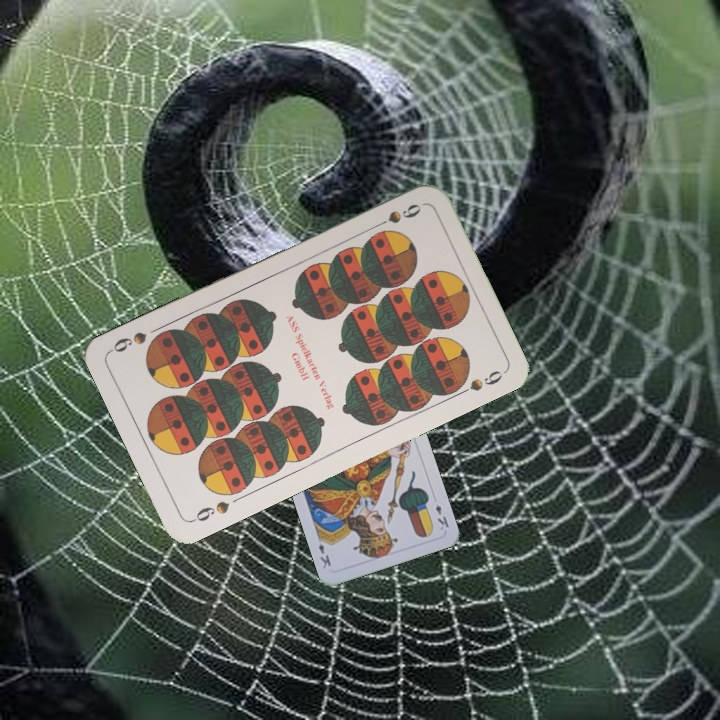EK: (431, 500, 451, 533)
S9: (369, 199, 424, 231), (187, 497, 232, 525)
